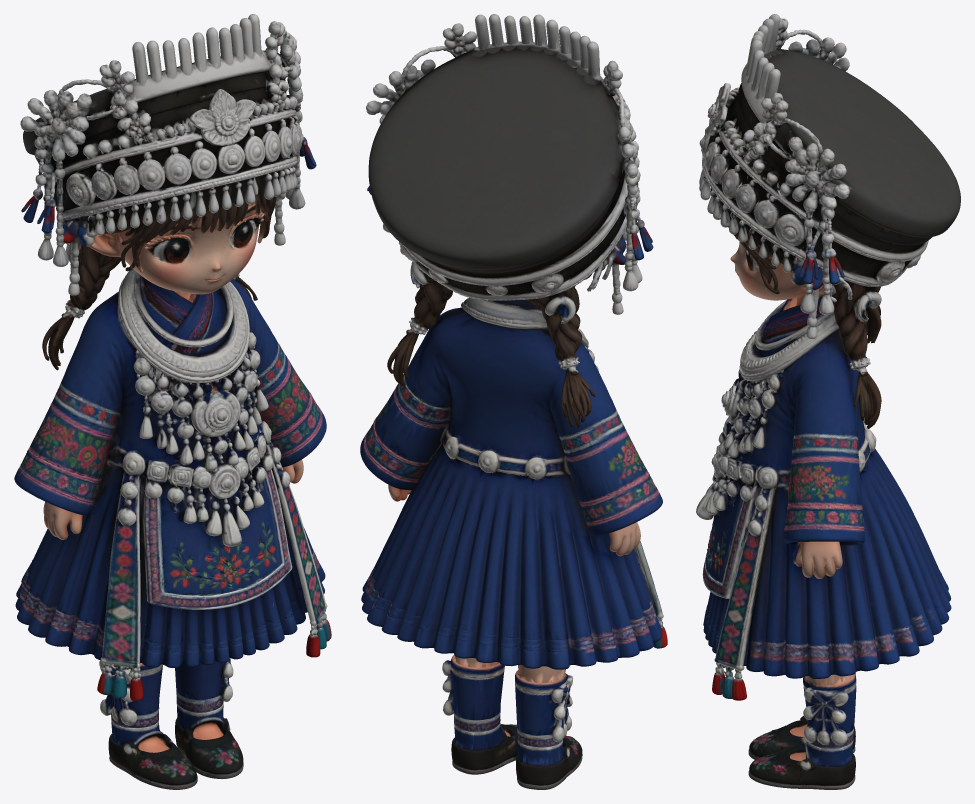
The model's file is MiaoGirl_2.glb.
3 views of the same model, side by side, from view 1: azimuth 30°, elevation 25°; view 2: azimuth 150°, elevation 25°; view 3: azimuth 270°, elevation 25° (orthographic). The views are drawn at different scales.
Visible parts, largest first — view 1: tripo_node_690b170d-d26b-4310-a9b9-10af73d1a135; view 2: tripo_node_690b170d-d26b-4310-a9b9-10af73d1a135; view 3: tripo_node_690b170d-d26b-4310-a9b9-10af73d1a135.
Boxes of the visible parts, x1,y1,x2,y2 form: tripo_node_690b170d-d26b-4310-a9b9-10af73d1a135: (14, 14, 331, 789); tripo_node_690b170d-d26b-4310-a9b9-10af73d1a135: (360, 14, 667, 789); tripo_node_690b170d-d26b-4310-a9b9-10af73d1a135: (696, 14, 960, 789).
Bounding box in the file's own units: 0.409 × 0.9791 × 0.3223.
Materials: 1 (1 with a texture image).
